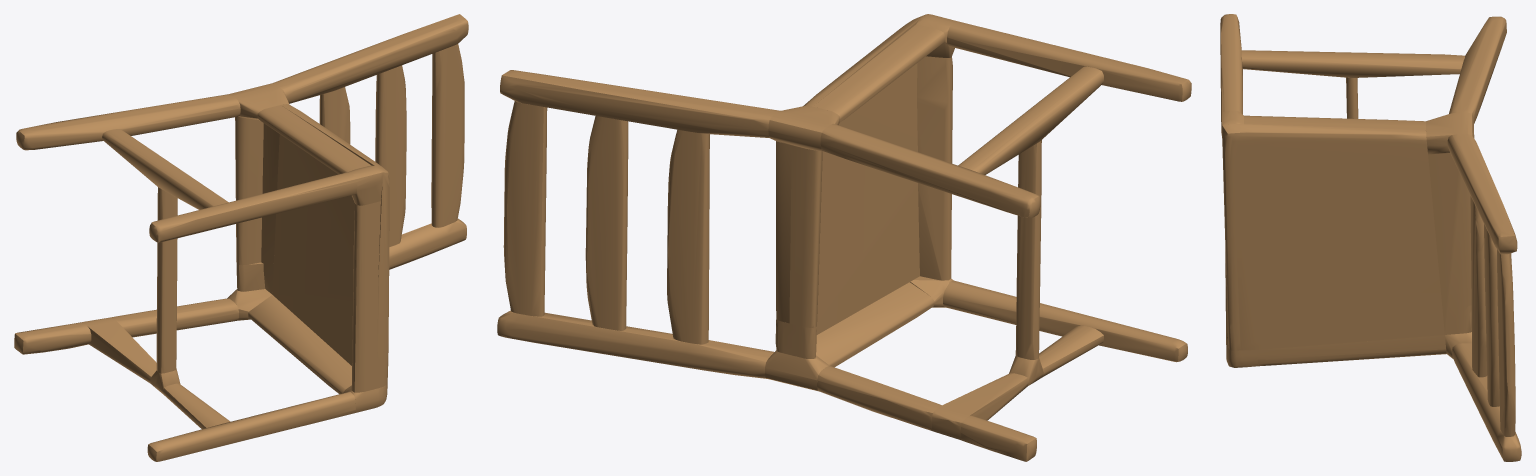
The model's file is g1_11_chair_spin_props.glb.
3 views of the same model, side by side, from view 1: azimuth 30°, elevation 25°; view 2: azimuth 150°, elevation 25°; view 3: azimuth 270°, elevation 25° (orthographic). The views are drawn at different scales.
Parts seen in each view (by area): view 1: o00_p00, o00_p12, o00_p02, o00_p09, o00_p01, o00_p19, o00_p08, o00_p23, o00_p07, o00_p15, o00_p10, o00_p06 (+13 smaller); view 2: o00_p00, o00_p02, o00_p13, o00_p12, o00_p23, o00_p03, o00_p09, o00_p19, o00_p01, o00_p08, o00_p15, o00_p06 (+12 smaller); view 3: o00_p00, o00_p14, o00_p06, o00_p07, o00_p02, o00_p09, o00_p12, o00_p13, o00_p03, o00_p23, o00_p01, o00_p04 (+5 smaller).
Part boxes in pixels (x1,y1,x2,y2): o00_p00: (272,104,389,388); o00_p12: (431,44,464,227); o00_p02: (273,14,468,103); o00_p09: (16,94,240,150); o00_p01: (149,172,357,242); o00_p19: (351,201,380,392); o00_p08: (147,392,355,461); o00_p23: (375,65,406,246); o00_p07: (248,295,351,394); o00_p15: (235,116,263,265); o00_p10: (156,187,177,373); o00_p06: (102,129,228,209); o00_p00: (803,14,927,334); o00_p02: (500,70,780,137); o00_p13: (667,129,709,344); o00_p12: (503,101,547,316); o00_p23: (585,116,628,330); o00_p03: (497,310,774,378); o00_p09: (820,123,1040,217); o00_p19: (917,56,952,280); o00_p01: (947,21,1191,101); o00_p08: (943,280,1187,362); o00_p15: (789,145,822,328); o00_p06: (958,66,1103,174); o00_p00: (1222,124,1444,350); o00_p14: (1428,153,1471,334); o00_p06: (1241,50,1464,77); o00_p07: (1257,335,1446,366); o00_p02: (1447,134,1517,254); o00_p09: (1449,16,1506,123); o00_p12: (1497,249,1515,436); o00_p13: (1470,196,1486,377); o00_p03: (1452,343,1521,461); o00_p23: (1484,224,1499,406); o00_p01: (1220,14,1242,119); o00_p04: (1244,115,1425,130).
Bounding box in the file's own units: 0.6675 × 0.3385 × 0.3787.
